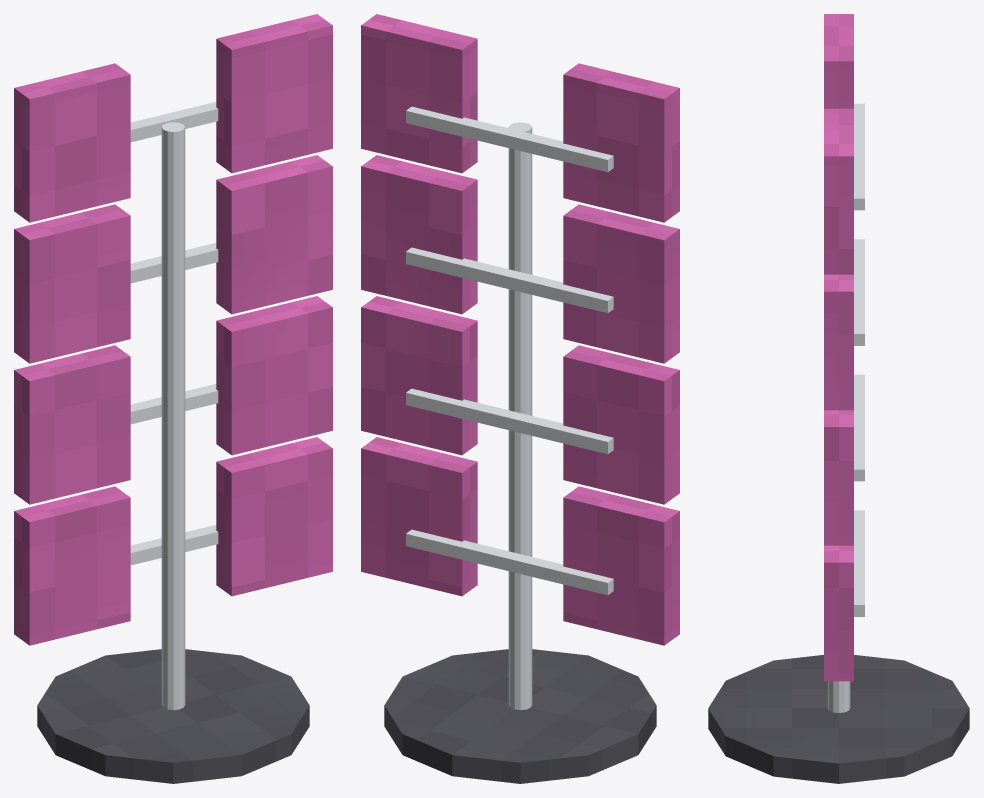
Rendered from retro-arcade-and-mall-1989-comic-spinner-rack-57272b09__15525.glb.
3 renders of one model, left to right at view 1: azimuth 30°, elevation 25°; view 2: azimuth 150°, elevation 25°; view 3: azimuth 270°, elevation 25°, orthographic. The views are drawn at different scales.
Parts seen in each view (by area): view 1: comic-spinner-rack; view 2: comic-spinner-rack; view 3: comic-spinner-rack.
Part boxes in pixels (bbox=[...]): comic-spinner-rack: bbox=[14, 14, 332, 783]; comic-spinner-rack: bbox=[361, 14, 679, 783]; comic-spinner-rack: bbox=[708, 14, 969, 783].
Bounding box in the file's own units: 0.9 × 1.9 × 0.7.
Materials: 3 (2 with a texture image).
